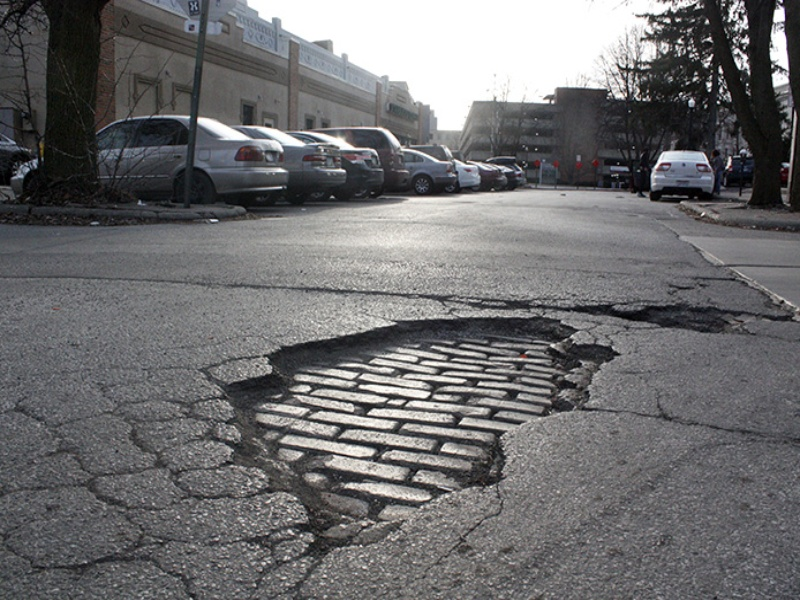pothole: (196, 310, 619, 560), (575, 292, 746, 342)
